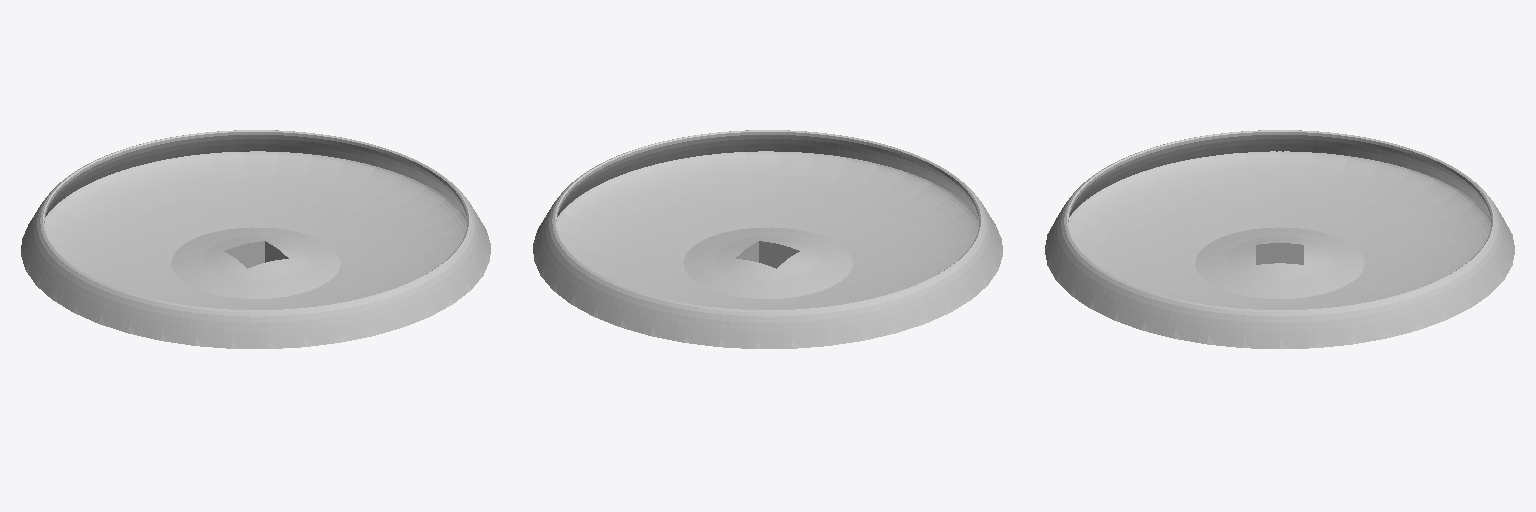
The model's file is bowl2.obj.
The picture shows the model from 3 angles: view 1: azimuth 30°, elevation 25°; view 2: azimuth 150°, elevation 25°; view 3: azimuth 270°, elevation 25°; orthographic projection.
Parts seen in each view (by area): view 1: polySurface7; view 2: polySurface7; view 3: polySurface7.
Part boxes in pixels (bbox=[...]): polySurface7: bbox=[21, 130, 490, 348]; polySurface7: bbox=[533, 130, 1002, 348]; polySurface7: bbox=[1045, 130, 1514, 348].
Bounding box in the file's own units: 25.5 × 4.28 × 25.5.